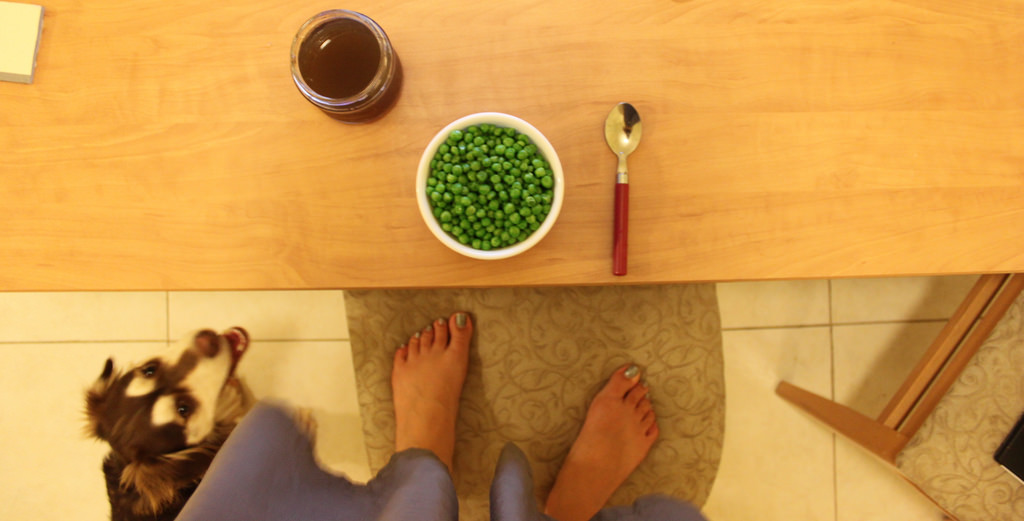boiled peas: (423, 122, 558, 254)
